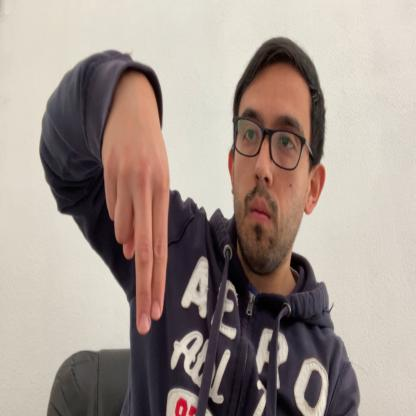N: (102, 91, 172, 336)
